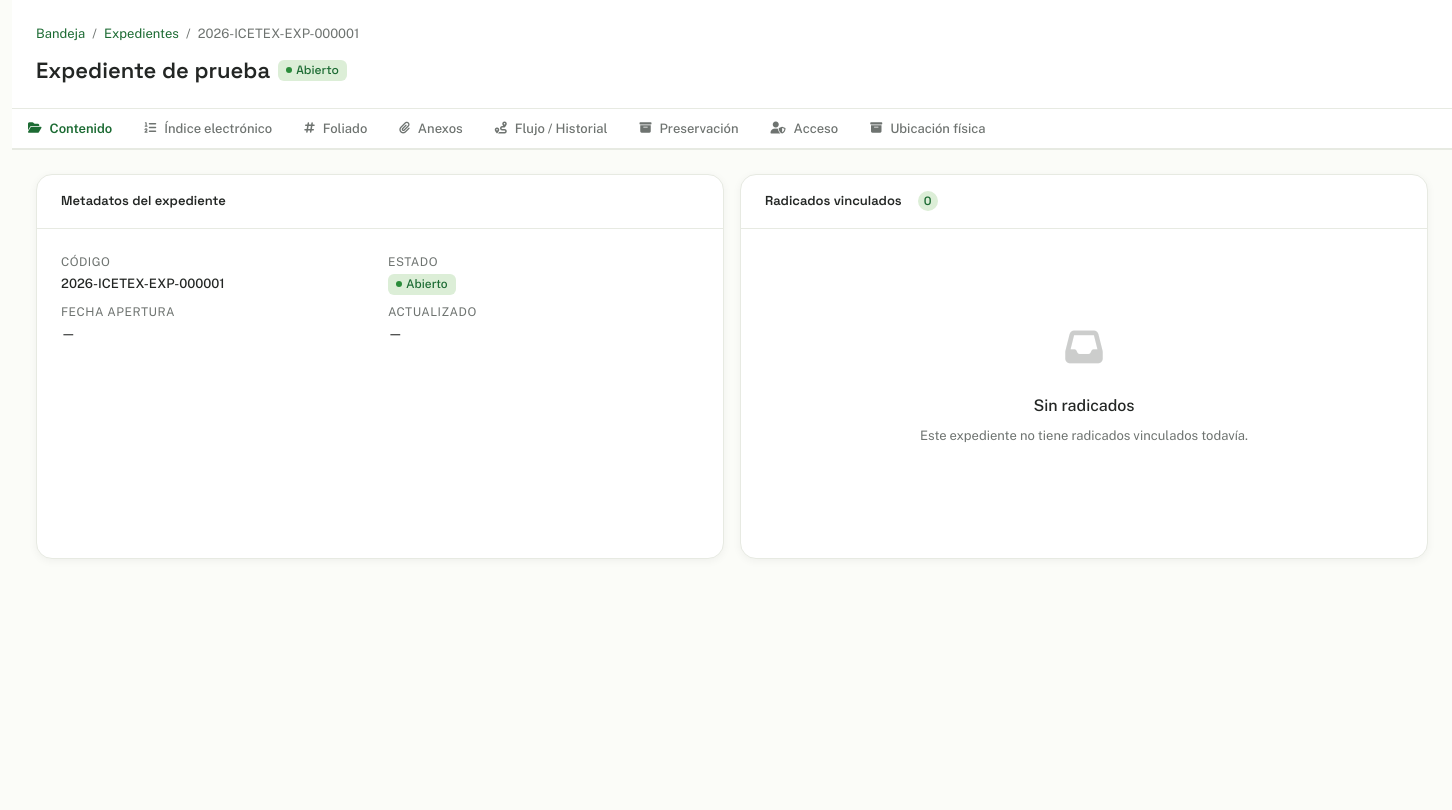
Test: pestaña Preservación — estado de instancia › enabled=false: dice «desactivada» y NO pide el AIP
Click the tab "Preservación".
click(689, 130)  # box [624,109,755,150]
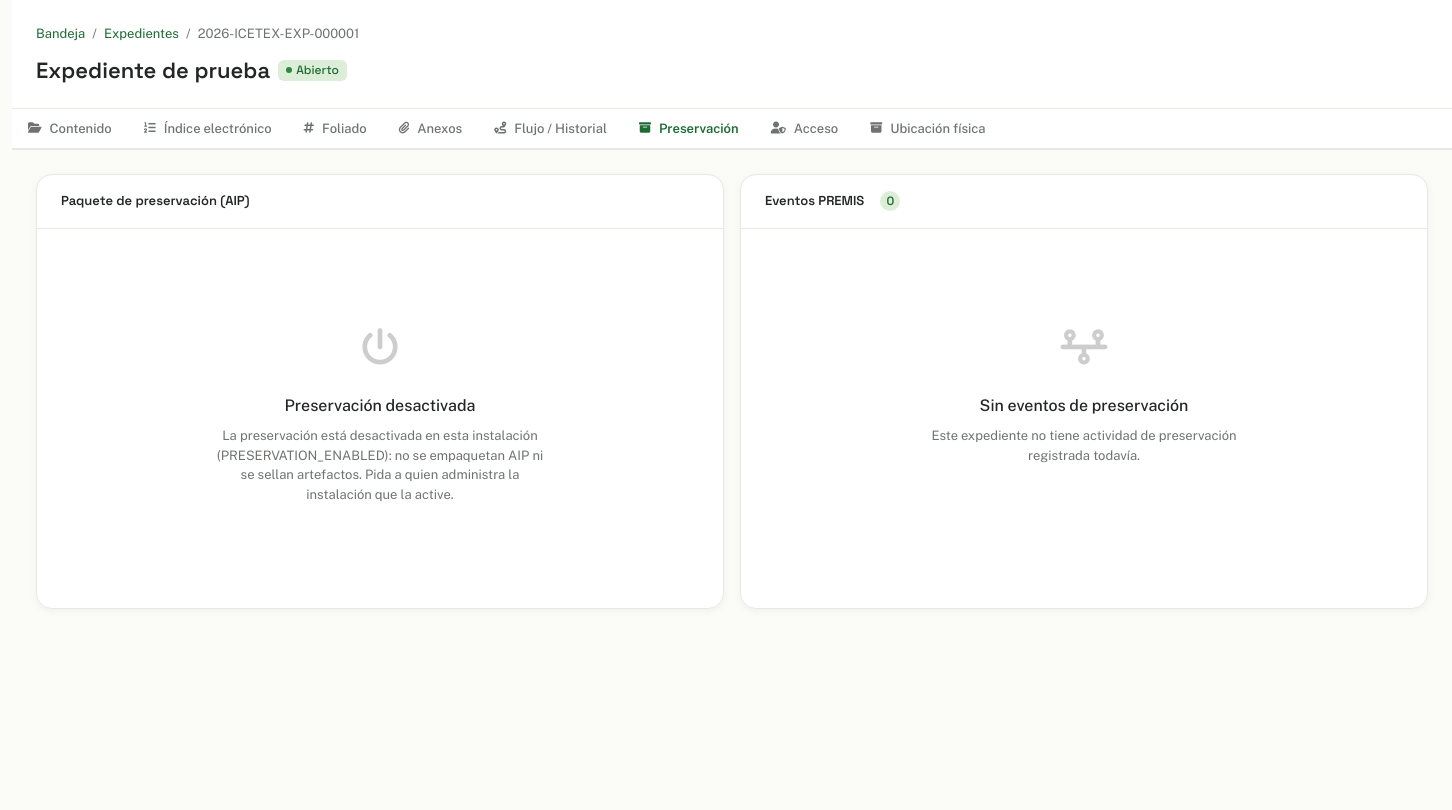
Result: the text "Preservación desactivada" is shown at [285,393,475,418]
Result: the text "PRESERVATION_ENABLED" is shown at [217,428,543,502]
